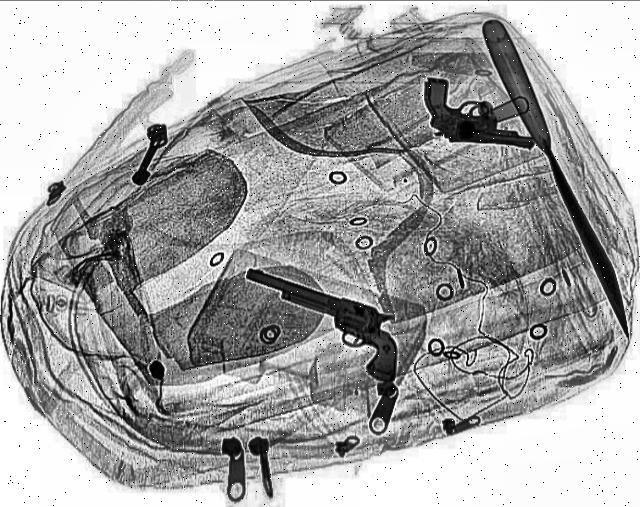Gun: (216, 266, 432, 386), (421, 78, 542, 148)
Knife: (476, 19, 640, 330)
